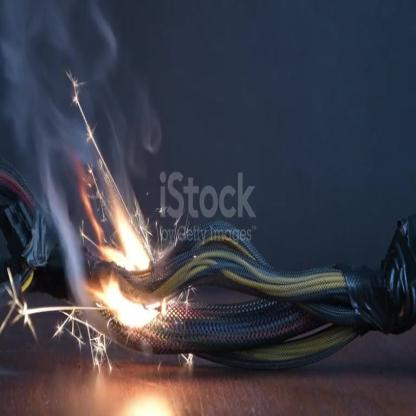fire: (80, 176, 157, 283), (95, 276, 176, 345)
smoke: (0, 1, 170, 353)
